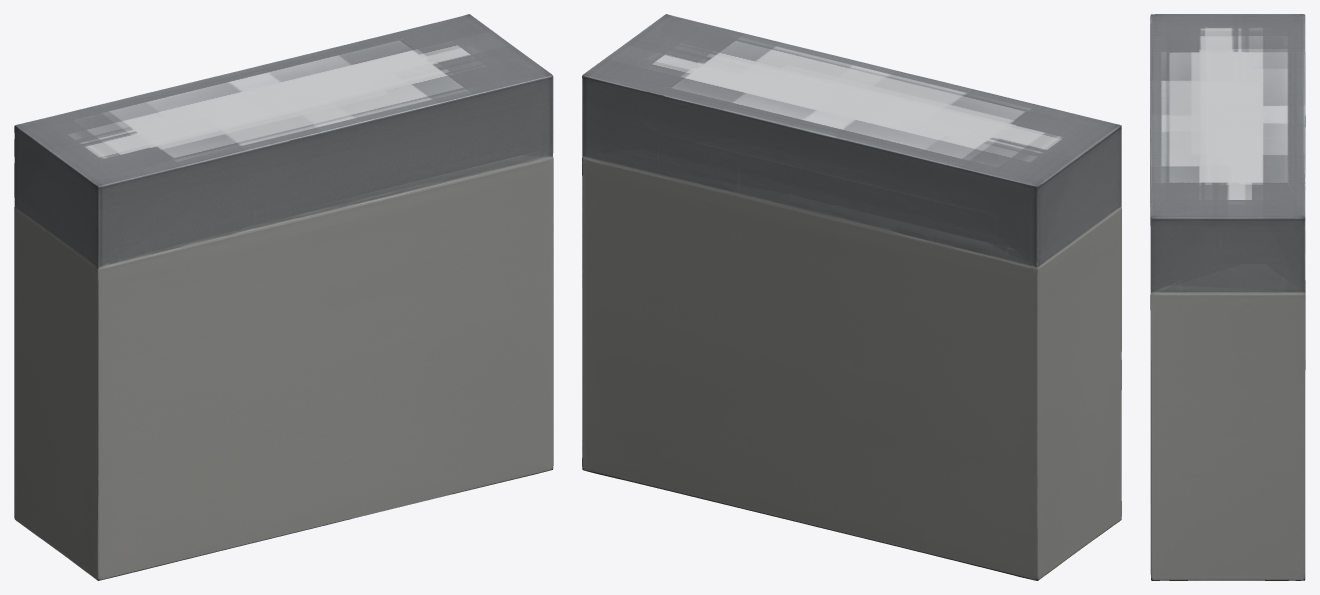
The model's file is m2Pedestal.glb.
3 views of the same model, side by side, from view 1: azimuth 30°, elevation 25°; view 2: azimuth 150°, elevation 25°; view 3: azimuth 270°, elevation 25° (orthographic). The views are drawn at different scales.
Parts seen in each view (by area): view 1: world; view 2: world; view 3: world.
Boxes of the visible parts, x1,y1,x2,y2 form: world: (14, 14, 553, 580); world: (582, 14, 1121, 580); world: (1150, 14, 1305, 580).
Bounding box in the file's own units: 0.9998 × 0.8292 × 0.3212.
Materials: 1 (1 with a texture image).
